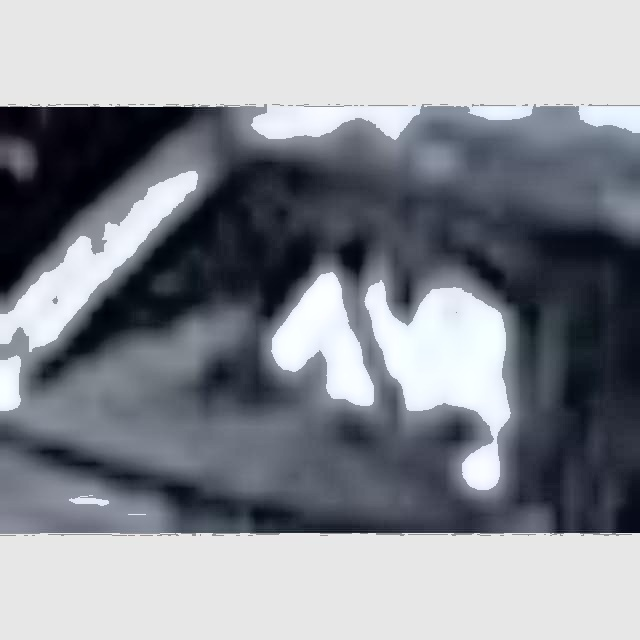pakai: (226, 232, 515, 458)
